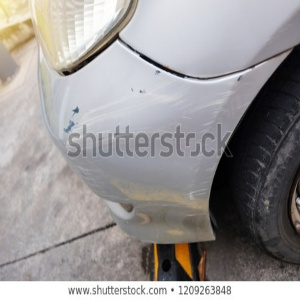bumper_scratch: (70, 157, 221, 206)
